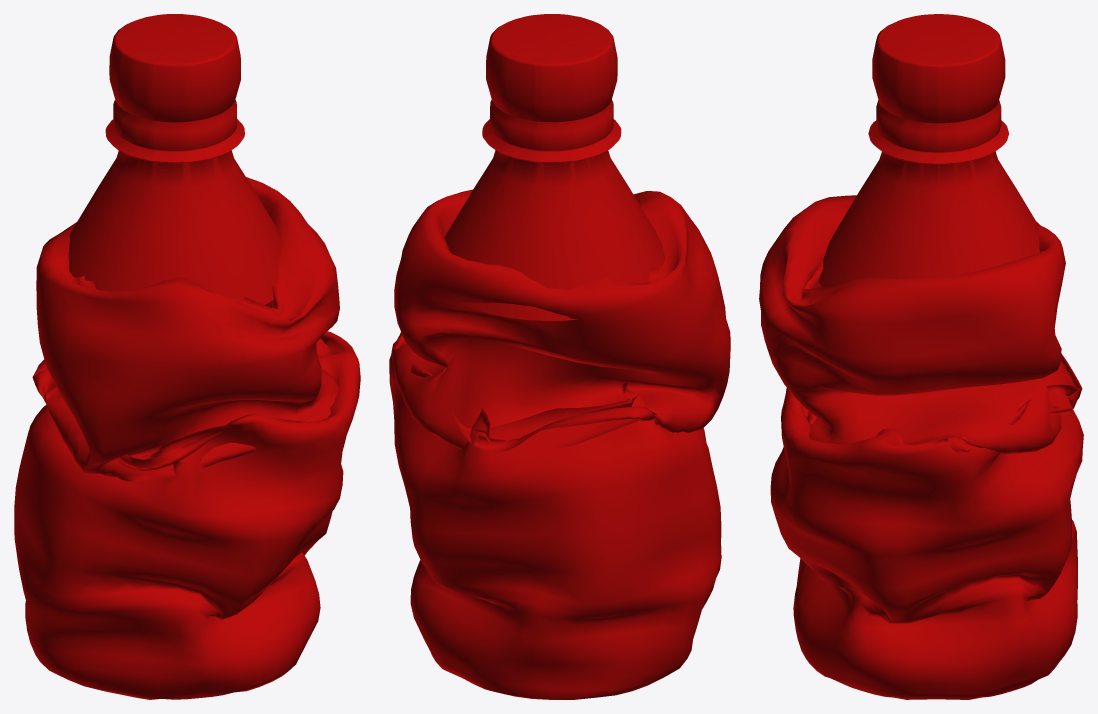
The model's file is waterbottle.glb.
3 views of the same model, side by side, from view 1: azimuth 30°, elevation 25°; view 2: azimuth 150°, elevation 25°; view 3: azimuth 270°, elevation 25° (orthographic).
Visible parts, largest first — view 1: Crushed_Bottle2; view 2: Crushed_Bottle2; view 3: Crushed_Bottle2.
Part boxes in pixels (x1=…): Crushed_Bottle2: x1=14, y1=14, x2=360, y2=699; Crushed_Bottle2: x1=389, y1=14, x2=730, y2=699; Crushed_Bottle2: x1=759, y1=14, x2=1083, y2=699.
Size of the model in its own units: 118 by 223 by 107.
